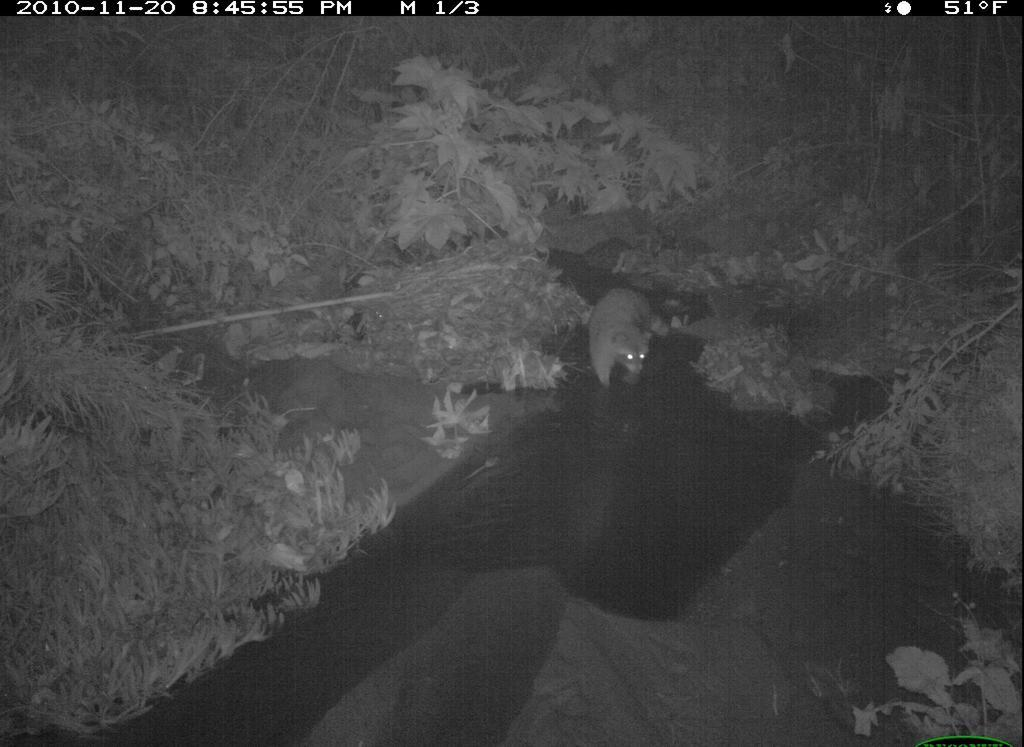raccoon: (564, 265, 671, 422)
